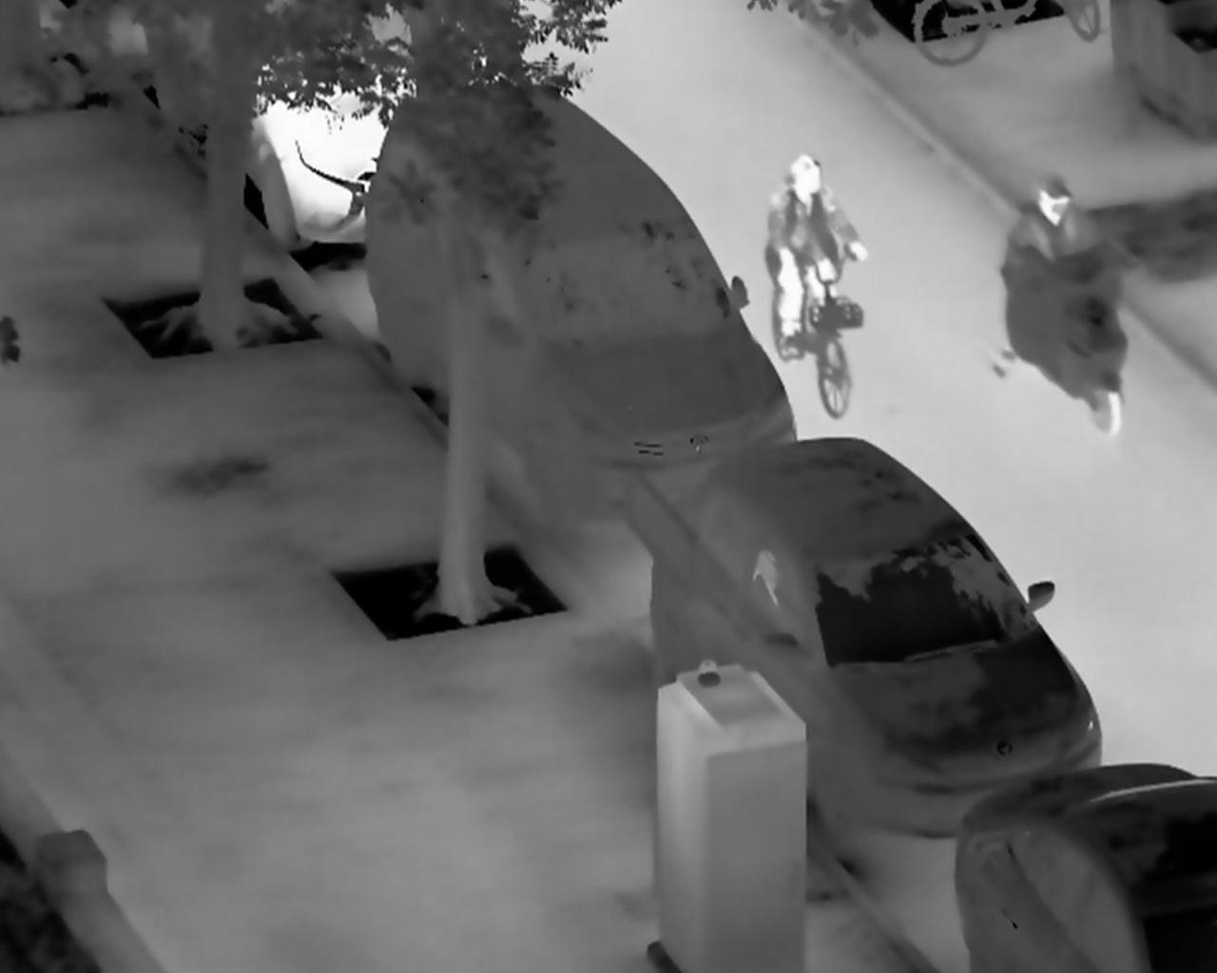person: (764, 152, 871, 361), (1001, 170, 1117, 274)
